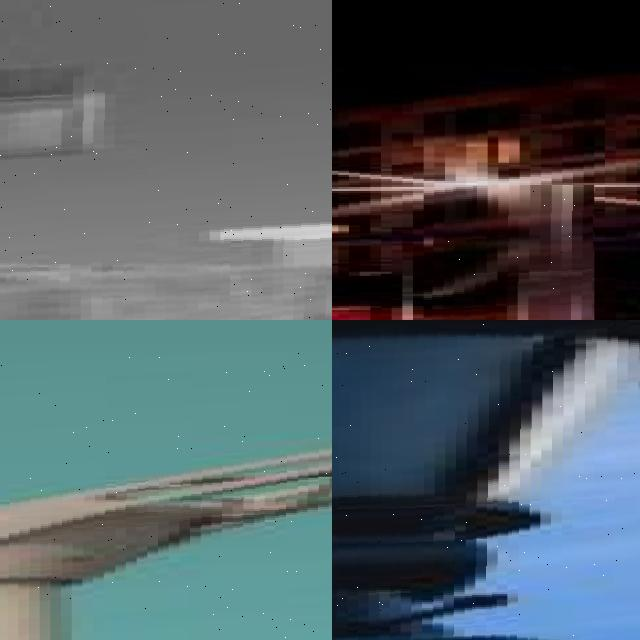street light: (0, 0, 332, 320), (332, 320, 640, 640), (0, 352, 332, 640), (423, 185, 594, 320)
